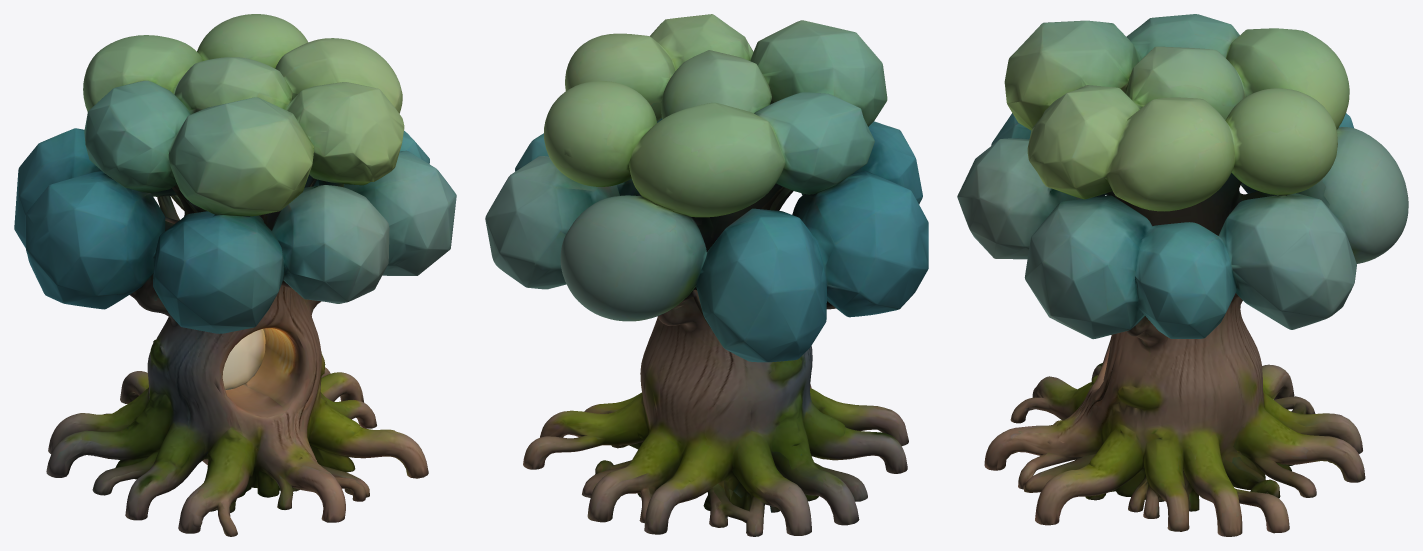
The model's file is tree-hollow-one.glb.
3 views of the same model, side by side, from view 1: azimuth 30°, elevation 25°; view 2: azimuth 150°, elevation 25°; view 3: azimuth 270°, elevation 25° (orthographic). The views are drawn at different scales.
Visible parts, largest first — view 1: node_0; view 2: node_0; view 3: node_0.
Boxes of the visible parts, x1,y1,x2,y2 form: node_0: (14, 14, 456, 536); node_0: (485, 14, 928, 536); node_0: (957, 14, 1408, 536).
Size of the model in its own units: 0.905 by 0.8876 by 0.8743.
1 material, 1 textured.
